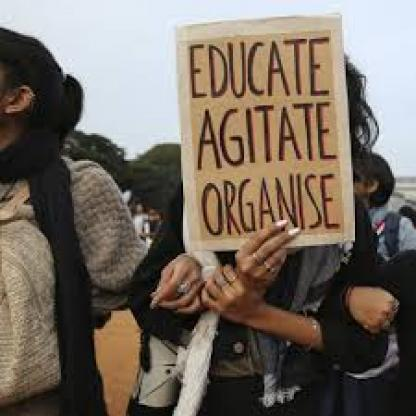BANNER: (174, 15, 355, 255)
